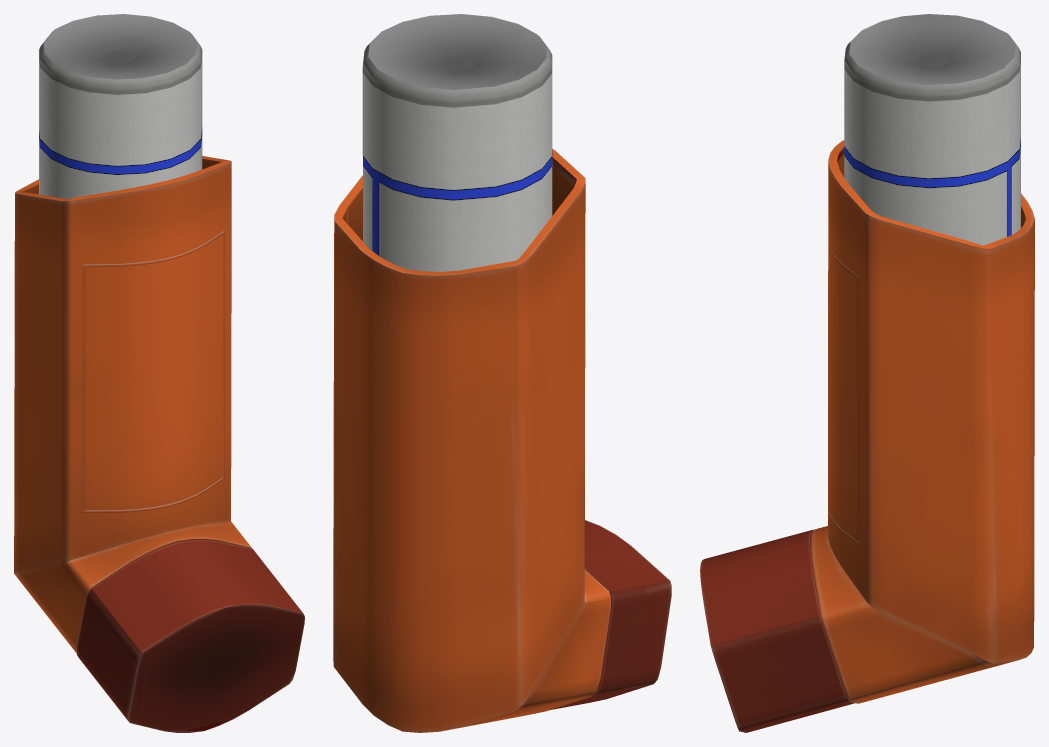
The model's file is Inhaler_1.obj.
3 views of the same model, side by side, from view 1: azimuth 30°, elevation 25°; view 2: azimuth 150°, elevation 25°; view 3: azimuth 270°, elevation 25° (orthographic). The views are drawn at different scales.
Visible parts, largest first — view 1: polySurface14; view 2: polySurface14; view 3: polySurface14.
Part boxes in pixels (box(x1,y1,x2,y2)): polySurface14: box(14, 14, 304, 732); polySurface14: box(333, 14, 671, 732); polySurface14: box(700, 14, 1034, 732).
Size of the model in its own units: 2.69 by 9.52 by 4.29.
1 material, 1 textured.
